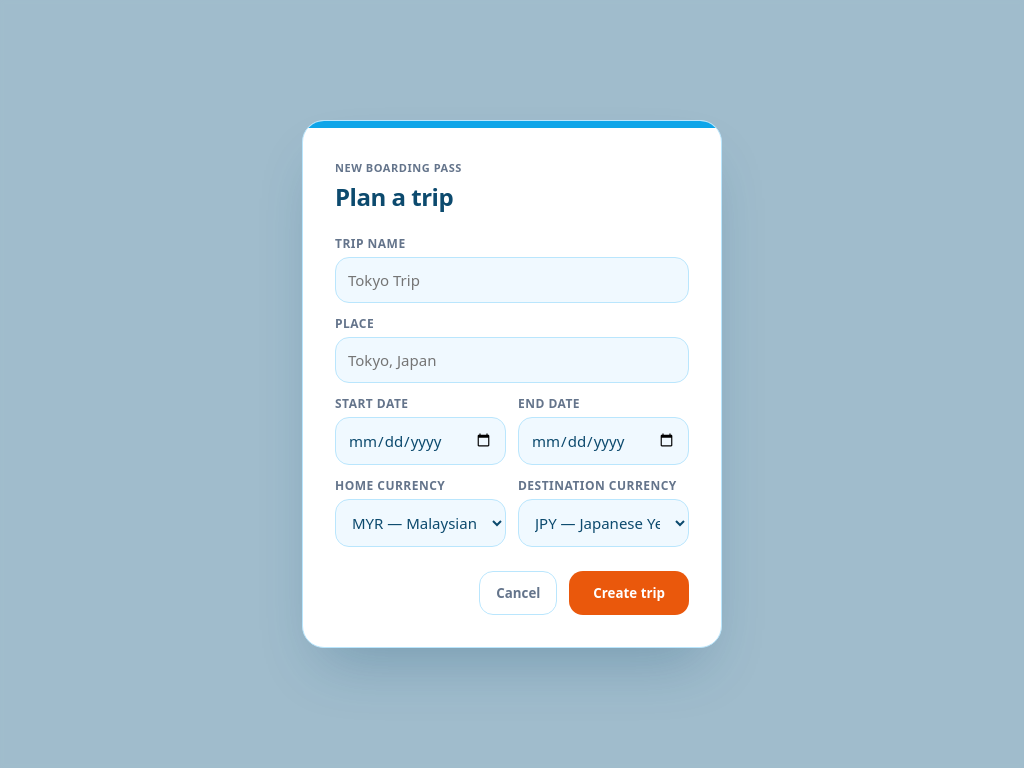
CreateTripModal › blocks submit until all fields are filled
Click the button "Create trip": (629, 592) 569,570 -> 689,614
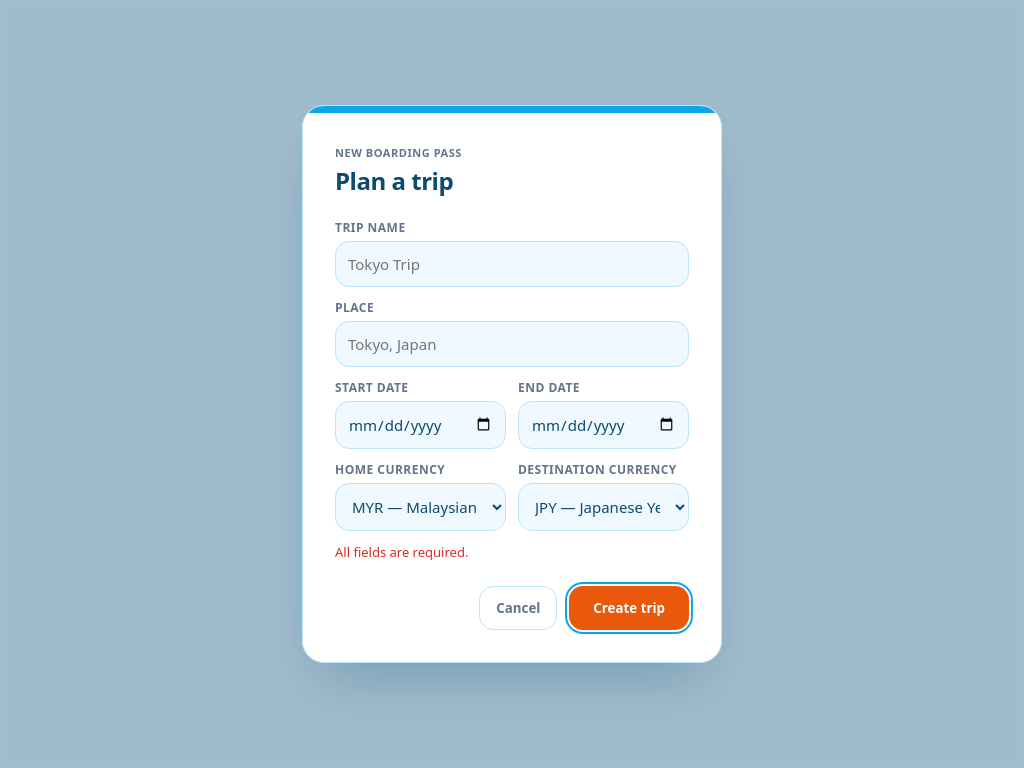
Now the text "All fields are required." is shown, box 335,543 -> 468,561
